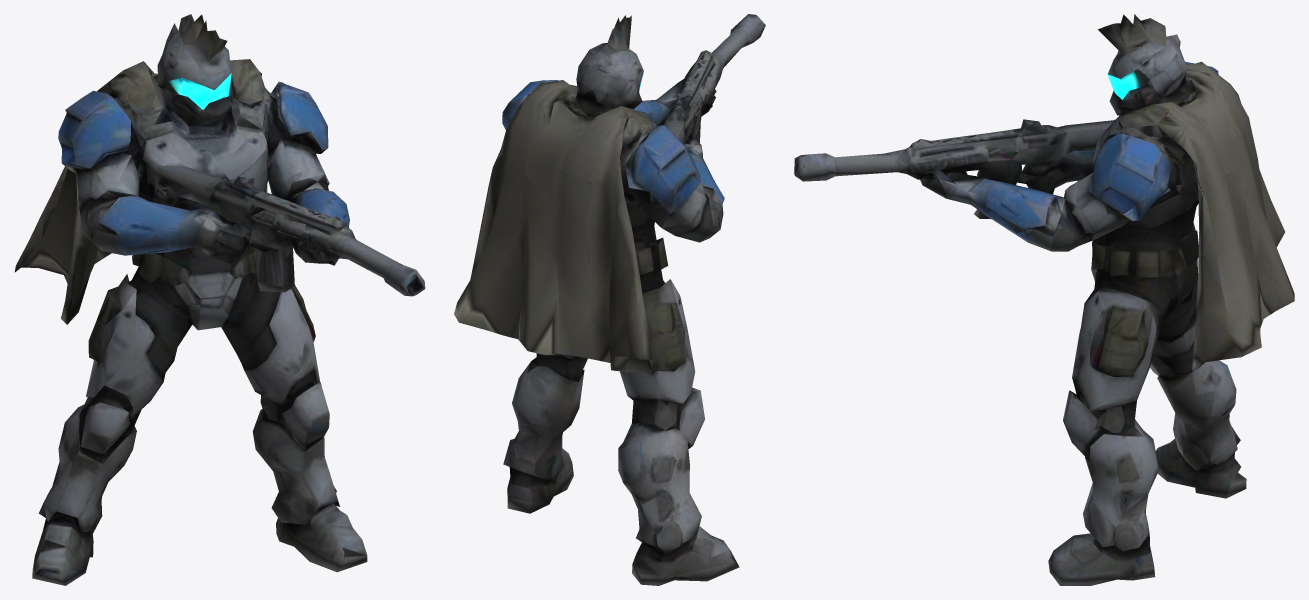
The model's file is hero_hawk.glb.
The picture shows the model from 3 angles, left to right: view 1: azimuth 30°, elevation 25°; view 2: azimuth 150°, elevation 25°; view 3: azimuth 270°, elevation 25°; orthographic projection. The views are drawn at different scales.
Visible parts, largest first — view 1: hero_hawk; view 2: hero_hawk; view 3: hero_hawk.
Boxes of the visible parts, bbox=[...] form: hero_hawk: bbox=[14, 14, 425, 585]; hero_hawk: bbox=[454, 14, 765, 585]; hero_hawk: bbox=[794, 14, 1294, 585].
Bounding box in the file's own units: 0.5295 × 1 × 0.8801.
1 material, 1 textured.
